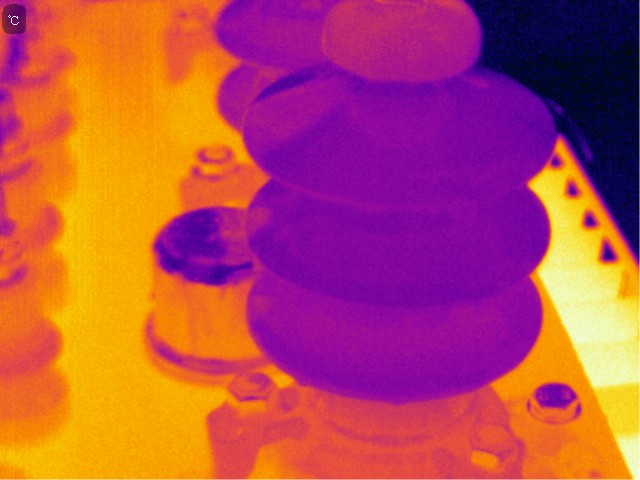Oil: (324, 1, 479, 81), (260, 80, 345, 152), (247, 204, 273, 230), (249, 298, 274, 322), (293, 376, 309, 389)
